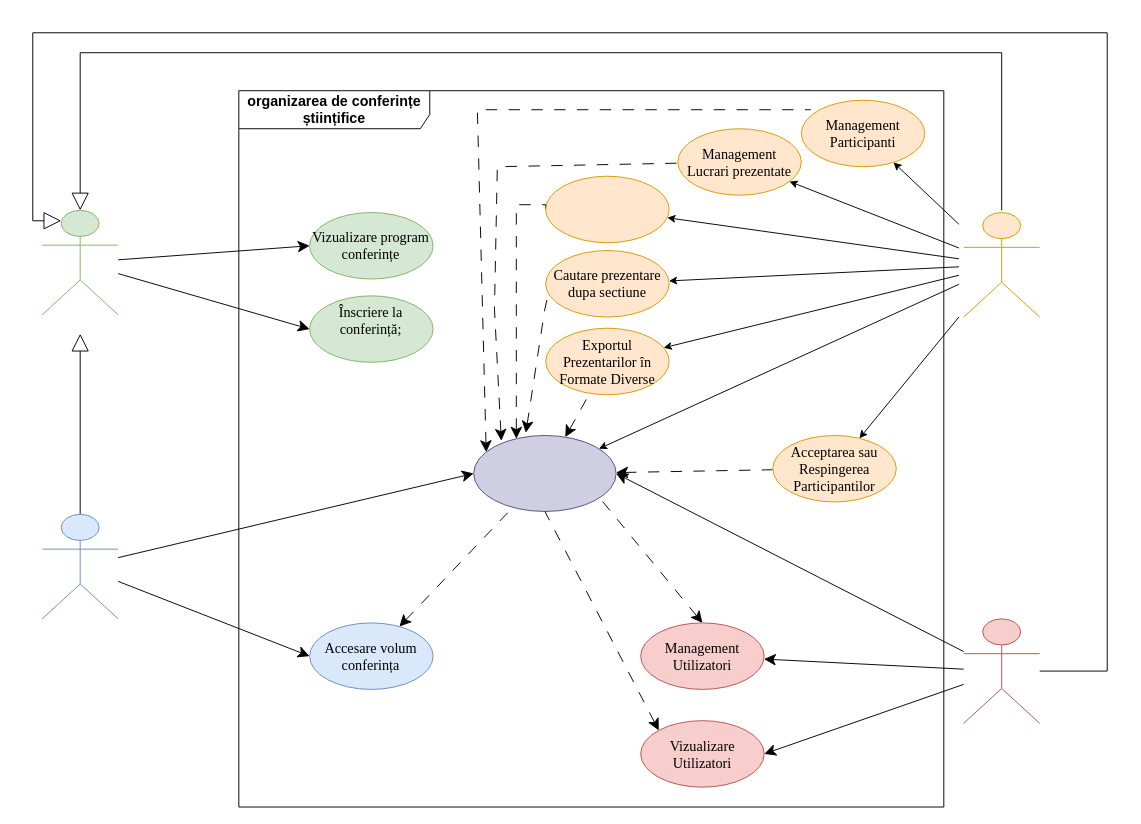
Some shapes in this 1141 by 824 pixel diagram are drawn without their labels. The box of each missing label's shape, as (x1, y1, x2, y2) in pixels:
Actor: (41, 209, 118, 315)
Administrator: (963, 618, 1040, 723)
Cautare participanti dupa sectiune: (545, 175, 669, 243)
LOGIN: (473, 435, 616, 511)
Organizator: (963, 212, 1040, 317)
Utilizator: (41, 513, 118, 619)
